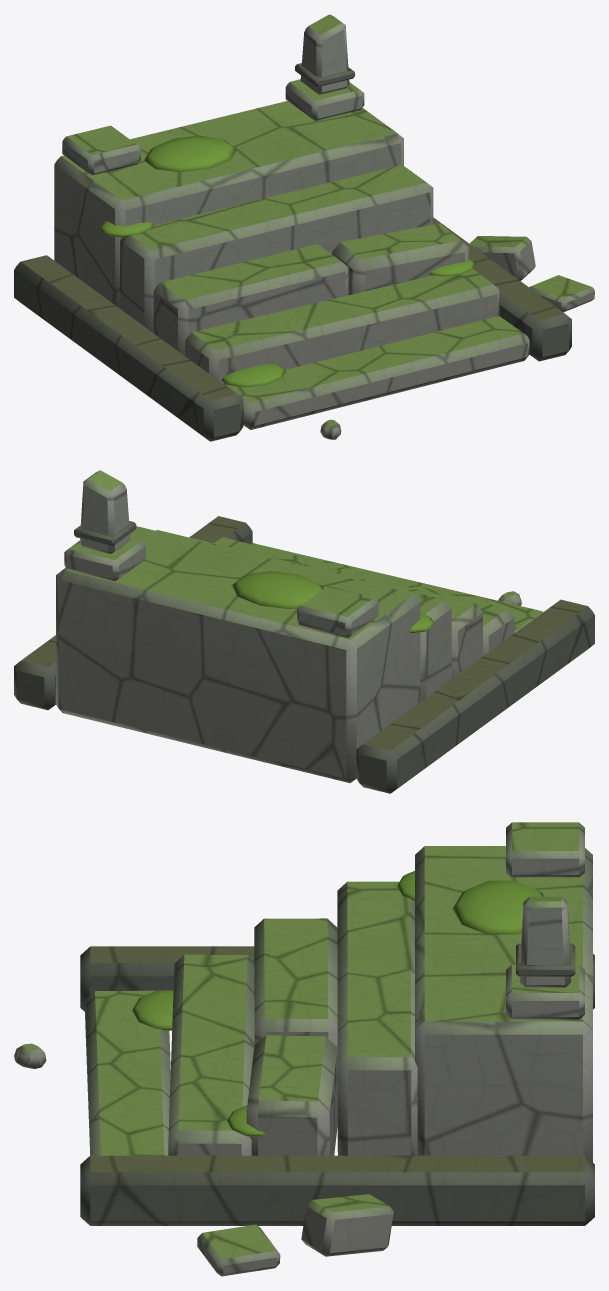
Rendered from stone_steps.glb.
3 views of the same model, one above another, from view 1: azimuth 30°, elevation 25°; view 2: azimuth 150°, elevation 25°; view 3: azimuth 270°, elevation 25° (orthographic). The views are drawn at different scales.
Visible parts, largest first — view 1: stone_steps; view 2: stone_steps; view 3: stone_steps.
Boxes of the visible parts, x1,y1,x2,y2 form: stone_steps: (14,14,594,441); stone_steps: (14,470,594,793); stone_steps: (14,822,594,1276).
Bounding box in the file's own units: 3.36 × 1.64 × 2.94.
Materials: 3 (3 with a texture image).
